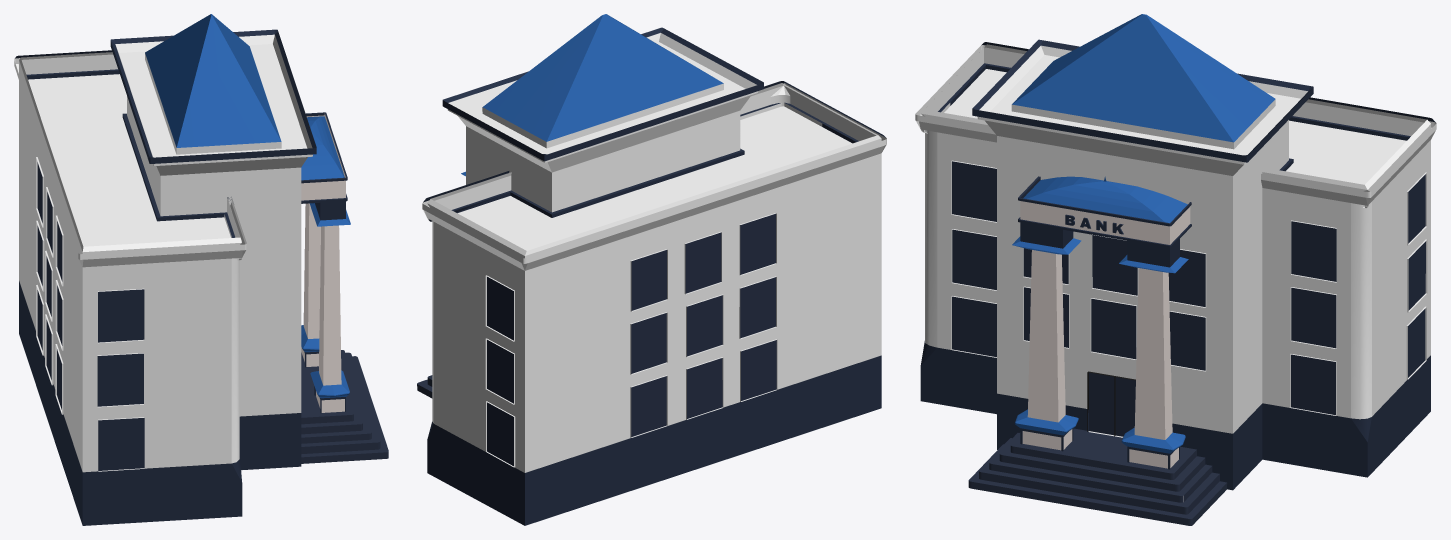
File: aset-bank 1.fbx
3 views of the same model, side by side, from view 1: azimuth 30°, elevation 25°; view 2: azimuth 150°, elevation 25°; view 3: azimuth 270°, elevation 25° (orthographic). The views are drawn at different scales.
Parts seen in each view (by area): view 1: Cube.001; view 2: Cube.001; view 3: Cube.001.
Boxes of the visible parts, bbox=[...] form: Cube.001: bbox=[14, 14, 388, 525]; Cube.001: bbox=[417, 14, 886, 525]; Cube.001: bbox=[915, 14, 1436, 525].
Bounding box in the file's own units: 64.33 × 66.08 × 73.32.
